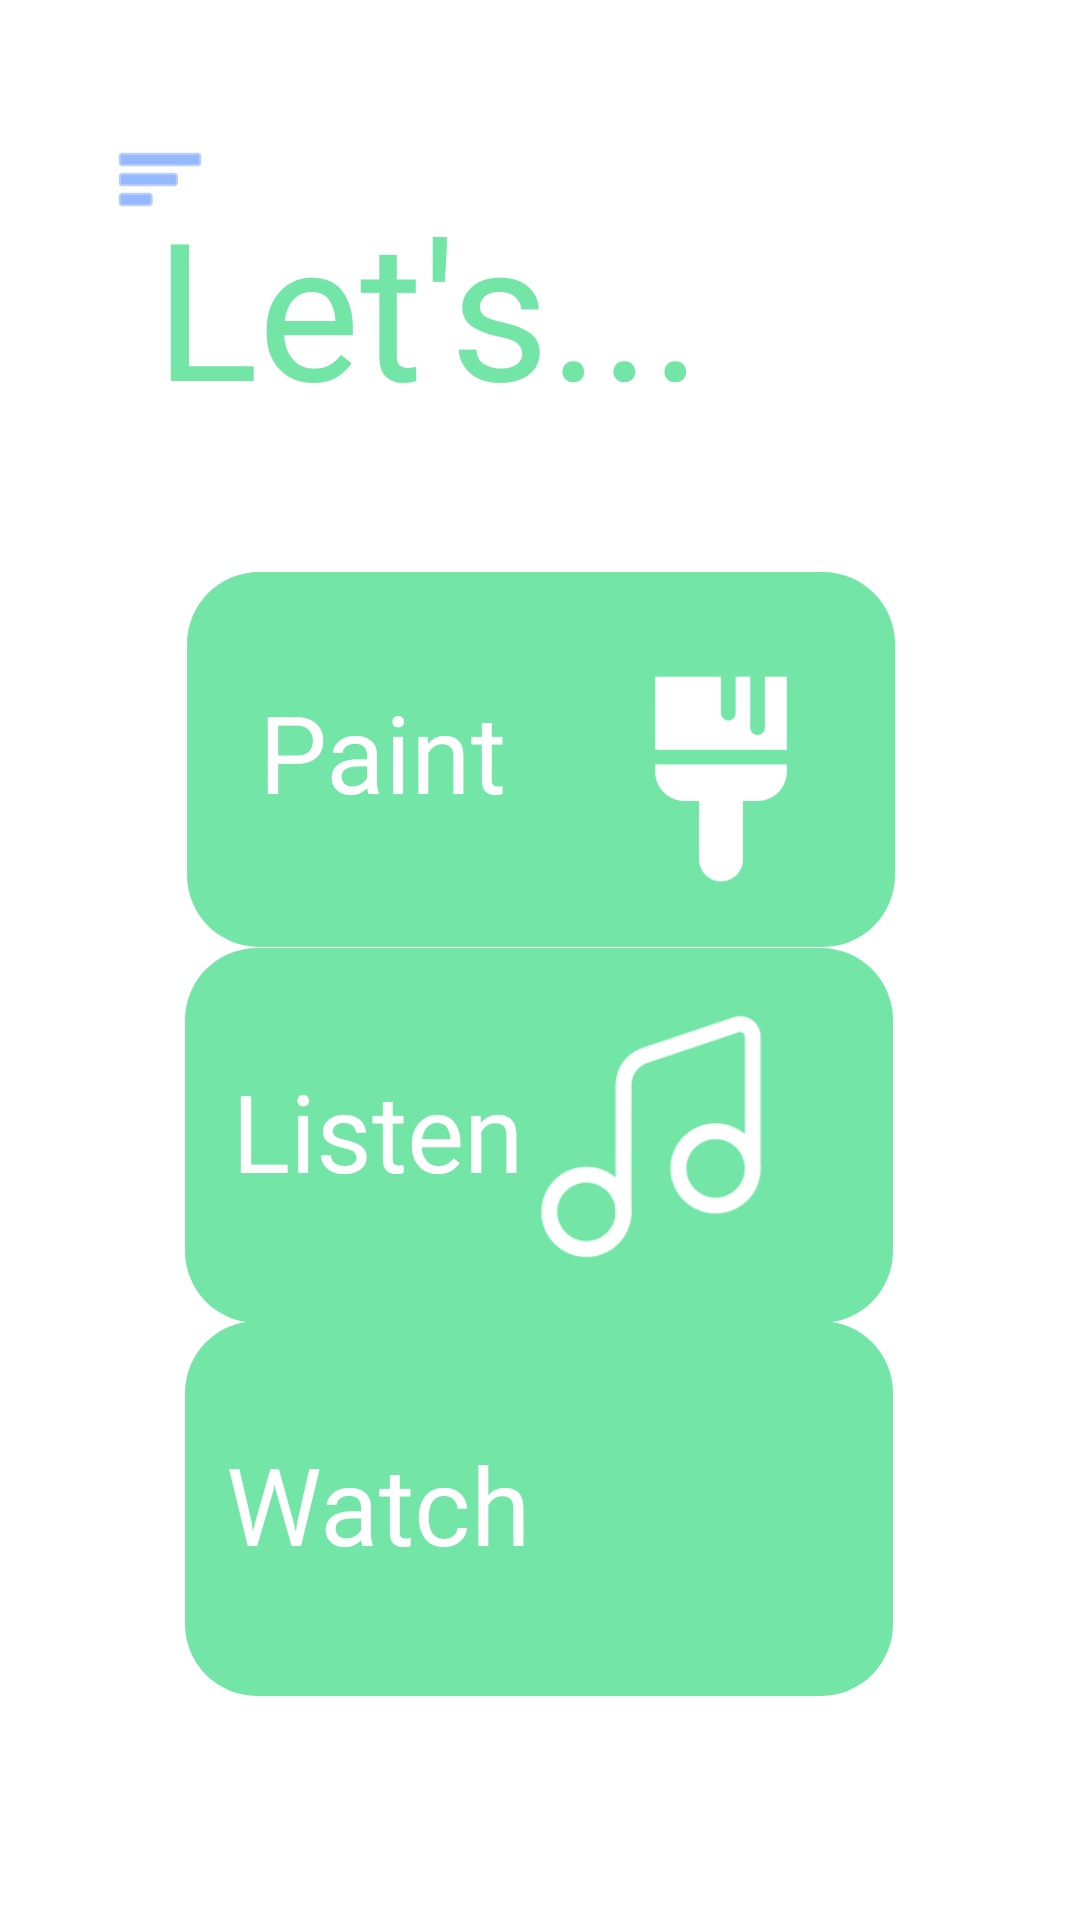

Named icons in this screenshot (1080 × 1920) and their bounding boxes, (x1=x1, y1=y1, x2=x2, y2=y2):
sort by size: (x1=119, y1=153, x2=201, y2=206)
